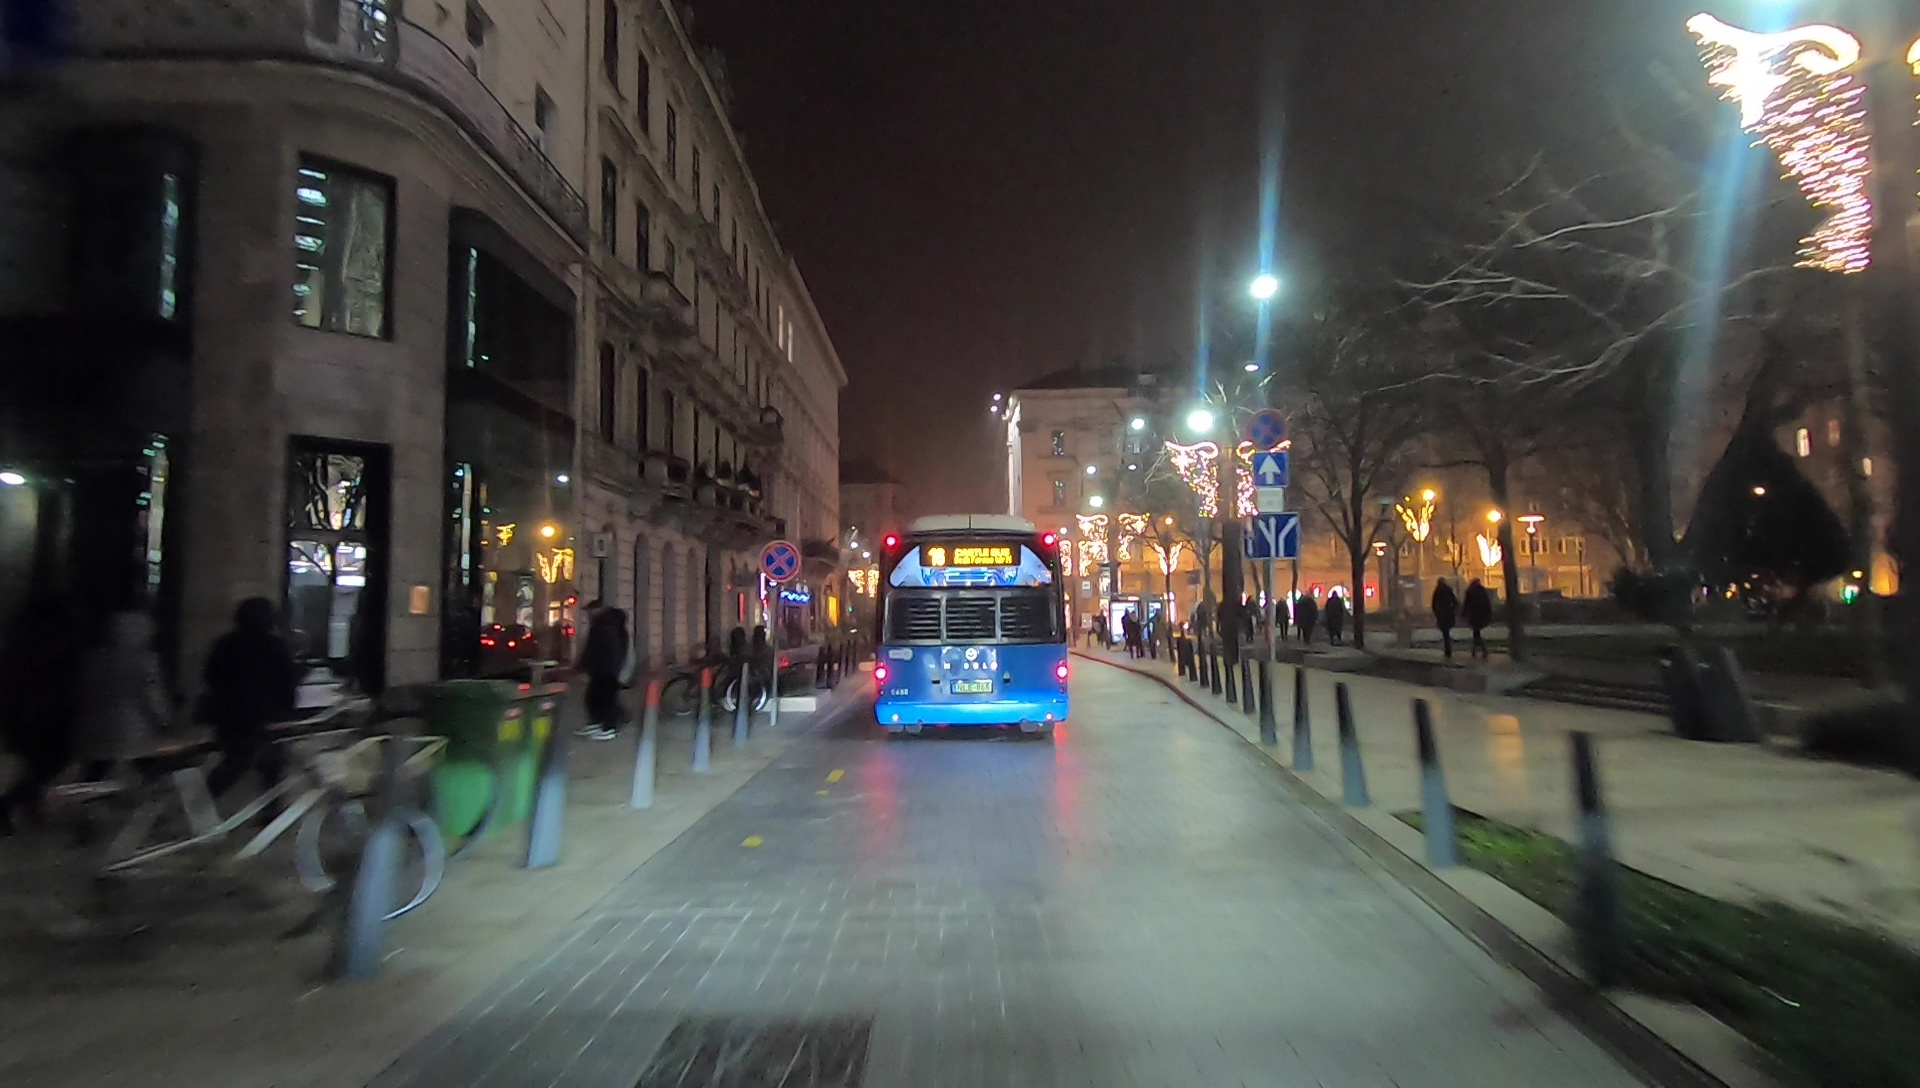person: (62, 600, 173, 819), (204, 591, 301, 826), (571, 597, 628, 749), (1464, 578, 1492, 660), (1430, 577, 1456, 658), (1323, 592, 1345, 643), (1296, 593, 1318, 645), (1242, 592, 1260, 643), (1121, 609, 1139, 651), (1273, 598, 1290, 638)
